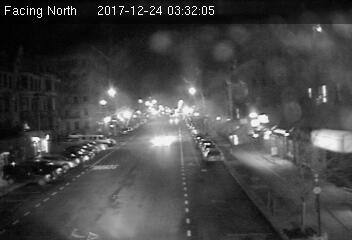car: (202, 147, 224, 164)
